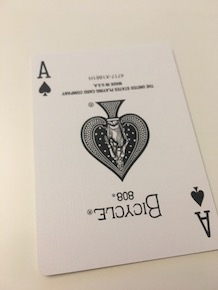AceOfSpades: (27, 42, 218, 276)
